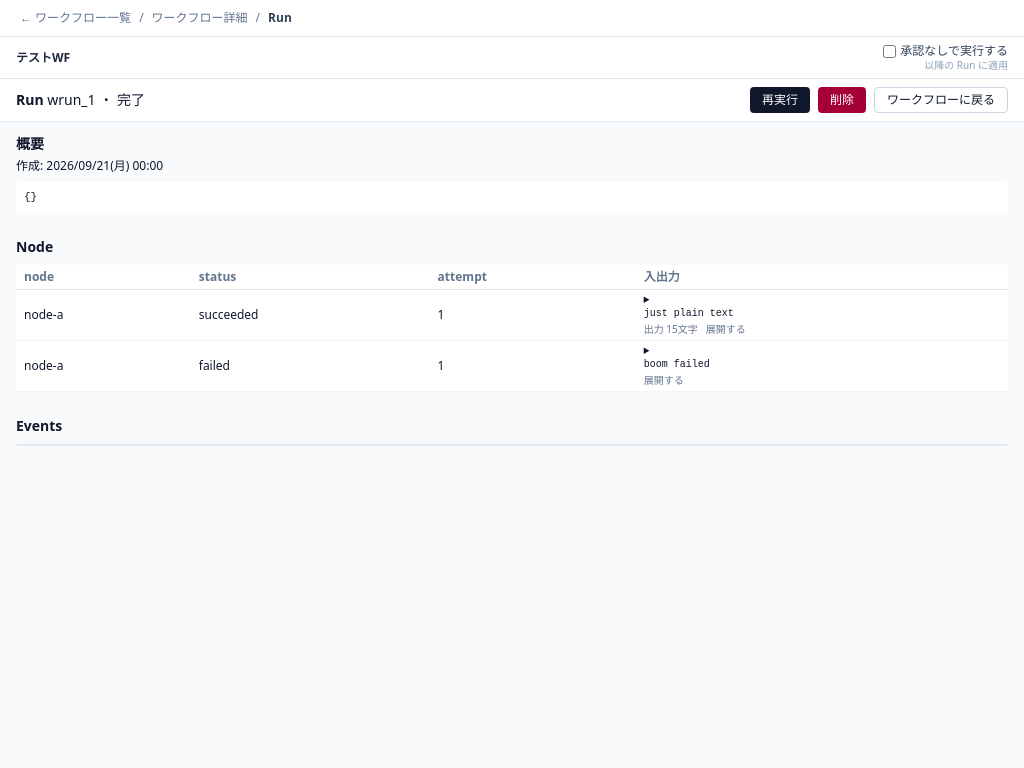
WorkflowRunPage node inputs/outputs › shows a non-JSON value as-is and an error-only node without input/output sections
Click the heading "just plain text 出力 15文字 展開する" at [695, 322], box [644,308,746,336]
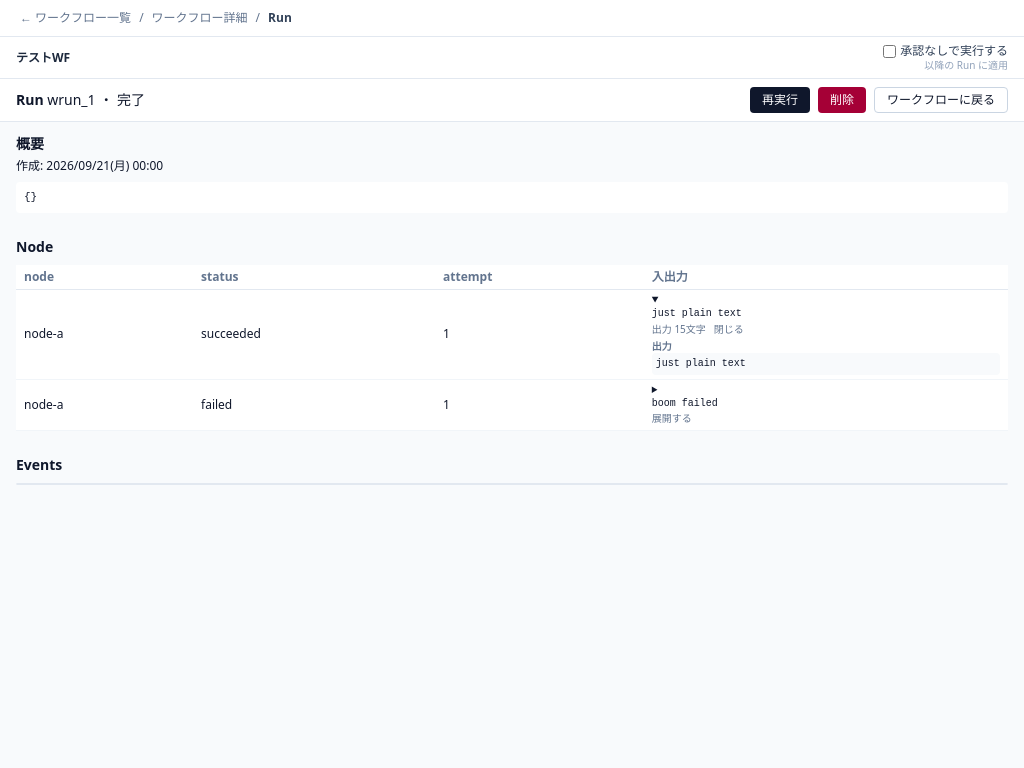
Result: the text with test id "run-node-io-act-plain-1-output" reads "just plain text" at [656,358,746,369]
Click the heading "boom failed 展開する" at [685, 412], box [652,398,718,425]
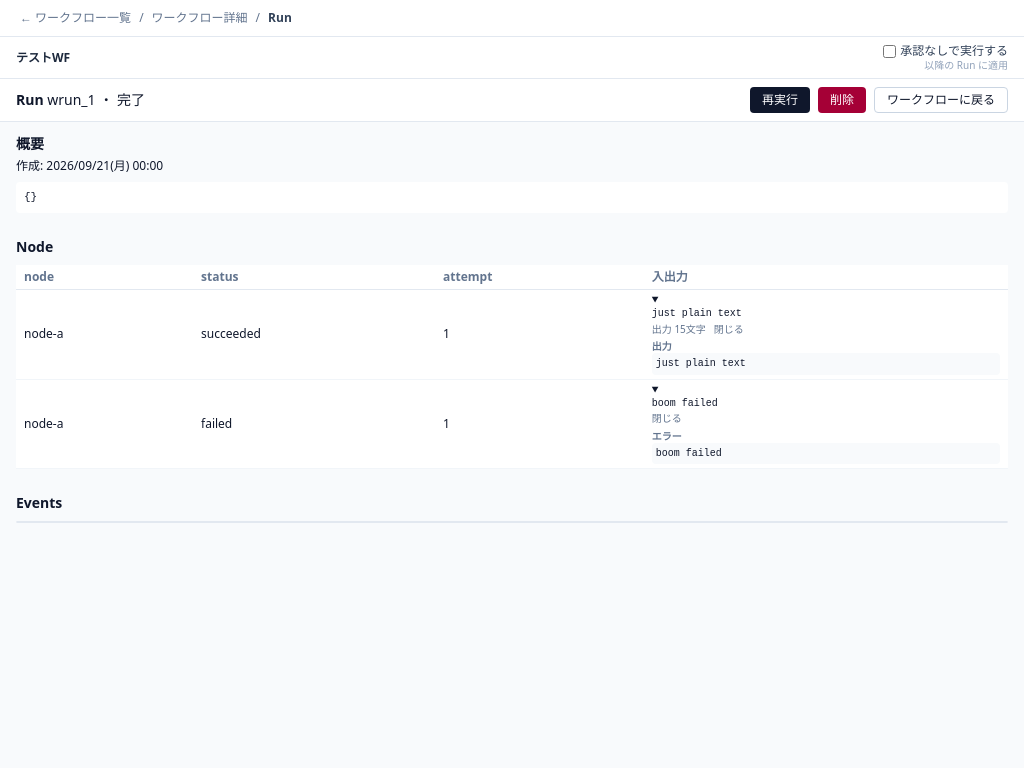
Result: the text with test id "run-node-io-act-err-1-error" reads "boom failed" at [656,448,722,459]
